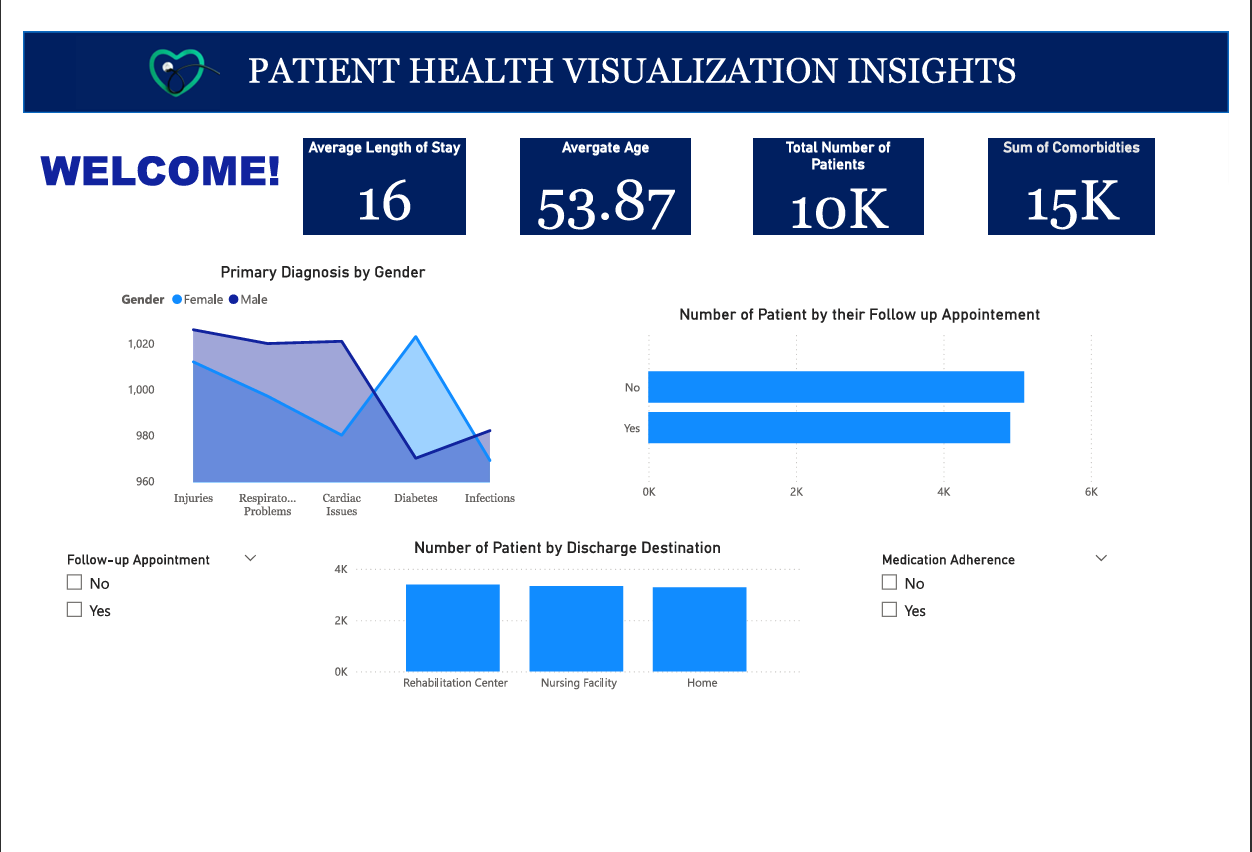

What the dashboard file says about the page in this screenshot:
{"tool":"powerbi","page":{"name":"Page 1","canvas":[1280,720],"ordinal":0},"visuals":[{"type":"shape","box":[0,0,1280,86],"z":0},{"type":"textbox","box":[233,15,1001,56],"z":1000},{"type":"card","title":"Average Length of Stay","fields":{"Values":["Health_care_patient_Dataset.Average Length of Stay"]},"box":[296.5,113.4,173.2,102.5],"z":2000},{"type":"card","title":"Avergate Age","fields":{"Values":["Health_care_patient_Dataset.Average Age"]},"box":[527.8,113.4,181.4,102.5],"z":3000},{"type":"card","title":"Total Number of Patients","fields":{"Values":["Health_care_patient_Dataset.Total Number of Patients"]},"box":[775.3,113.4,180.5,102.5],"z":4000},{"type":"card","title":"Sum of Comorbidties","fields":{"Values":["Sum(Health_care_patient_Dataset.Comorbidities)"]},"box":[1024.7,113.4,177.7,102.5],"z":5000},{"type":"areaChart","title":"Primary Diagnosis by Gender","fields":{"Category":["Health_care_patient_Dataset.Primary Diagnosis"],"Series":["Health_care_patient_Dataset.Gender"],"Y":["CountNonNull(Health_care_patient_Dataset.Gender)"]},"box":[99,245,438,293],"z":6000},{"type":"barChart","title":"Number of Patient by their Follow up Appointement","fields":{"Category":["Health_care_patient_Dataset.Follow-up Appointment"],"Y":["CountNonNull(Health_care_patient_Dataset.Gender)"]},"box":[631,290,515,217],"z":7000},{"type":"lineClusteredColumnComboChart","title":"Number of Patient by Discharge Destination","fields":{"Category":["Health_care_patient_Dataset.Discharge Destination"],"Y":["CountNonNull(Health_care_patient_Dataset.Patient ID)"]},"box":[325,538,506,172],"z":8000},{"type":"slicer","fields":{"Values":["Health_care_patient_Dataset.Follow-up Appointment"]},"box":[33.3,547.8,226.7,172.2],"z":9000},{"type":"slicer","fields":{"Values":["Health_care_patient_Dataset.Medication Adherence"]},"box":[898.9,547.8,265.6,172.2],"z":10000},{"type":"image","box":[31.1,0,202.2,85.6],"z":11000},{"type":"textbox","box":[12.7,110.6,267.5,88.9],"z":11001}]}

Visuals, with their boxes on the page's 1280x720 design canvas (x1, y1, x2, y2). These are canvas units, not pixel positions in the 1252x852 screenshot, which may show the page scaled, cropped or inside an application window:
shape: {"left": 0, "top": 0, "right": 1280, "bottom": 86}
textbox: {"left": 233, "top": 15, "right": 1234, "bottom": 71}
"Average Length of Stay" card: {"left": 296, "top": 113, "right": 470, "bottom": 216}
"Avergate Age" card: {"left": 528, "top": 113, "right": 709, "bottom": 216}
"Total Number of Patients" card: {"left": 775, "top": 113, "right": 956, "bottom": 216}
"Sum of Comorbidties" card: {"left": 1025, "top": 113, "right": 1202, "bottom": 216}
"Primary Diagnosis by Gender" areaChart: {"left": 99, "top": 245, "right": 537, "bottom": 538}
"Number of Patient by their Follow up Appointement" barChart: {"left": 631, "top": 290, "right": 1146, "bottom": 507}
"Number of Patient by Discharge Destination" lineClusteredColumnComboChart: {"left": 325, "top": 538, "right": 831, "bottom": 710}
slicer - Health_care_patient_Dataset.Follow-up Appointment: {"left": 33, "top": 548, "right": 260, "bottom": 720}
slicer - Health_care_patient_Dataset.Medication Adherence: {"left": 899, "top": 548, "right": 1164, "bottom": 720}
image: {"left": 31, "top": 0, "right": 233, "bottom": 86}
textbox: {"left": 13, "top": 111, "right": 280, "bottom": 200}
